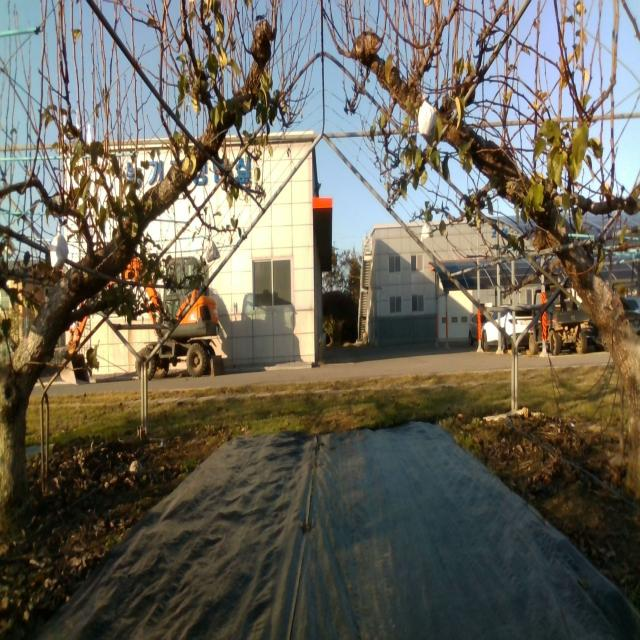pearbags: (418, 101, 437, 148), (50, 228, 70, 272), (420, 220, 434, 244), (206, 239, 220, 262)
